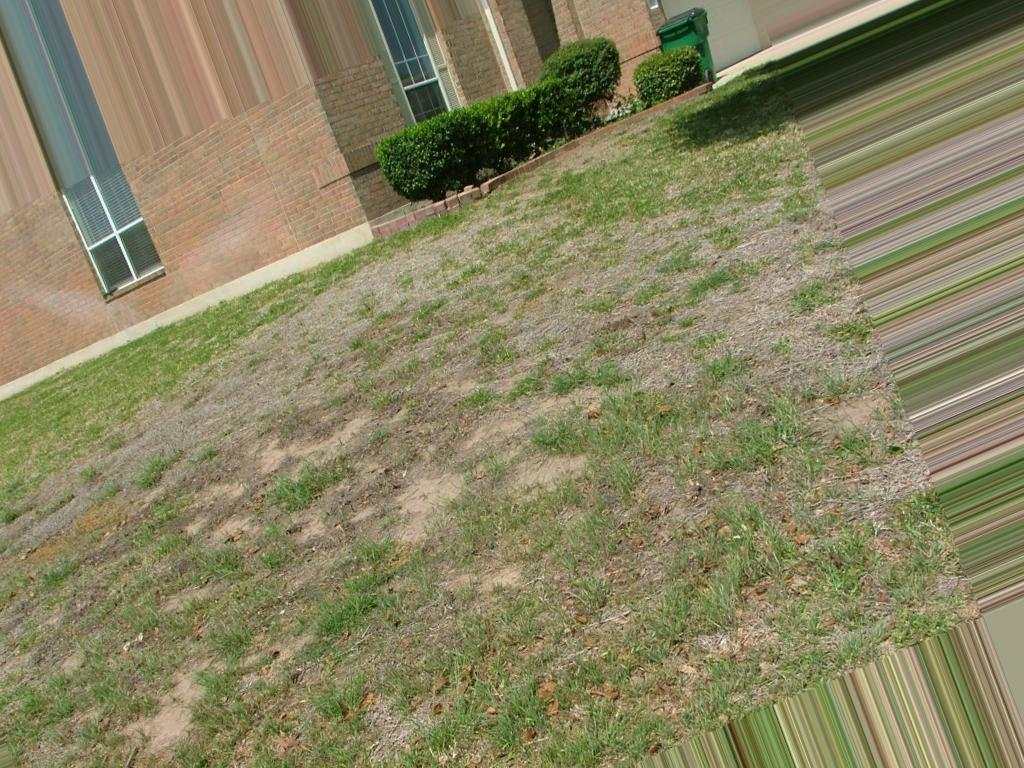patch: (562, 225, 883, 401), (95, 472, 357, 601), (433, 439, 643, 584), (208, 612, 455, 725), (220, 355, 431, 471), (350, 255, 538, 349)
